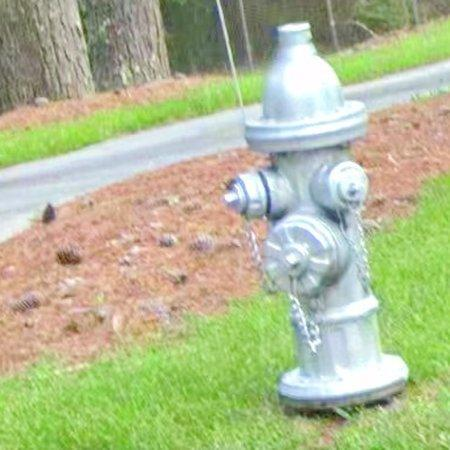a fire hydrant: (224, 22, 409, 410)
